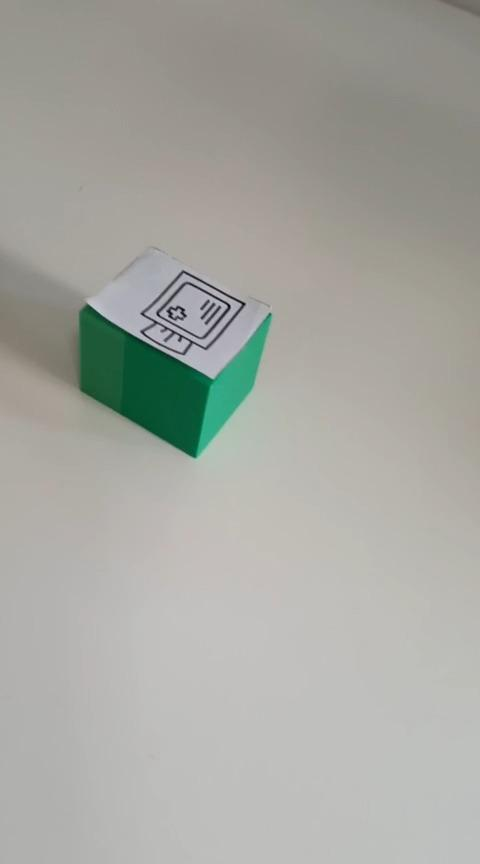Gauze: (77, 244, 272, 459)
